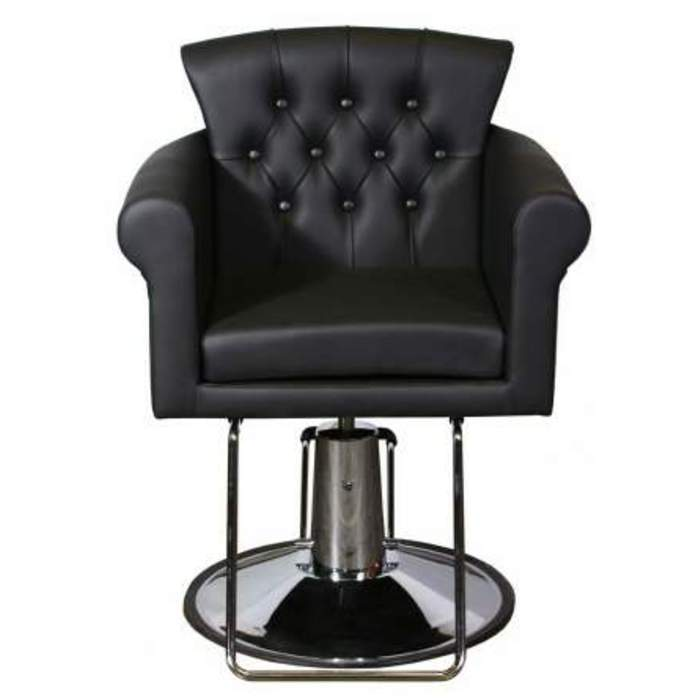chairs: (110, 15, 596, 688)
